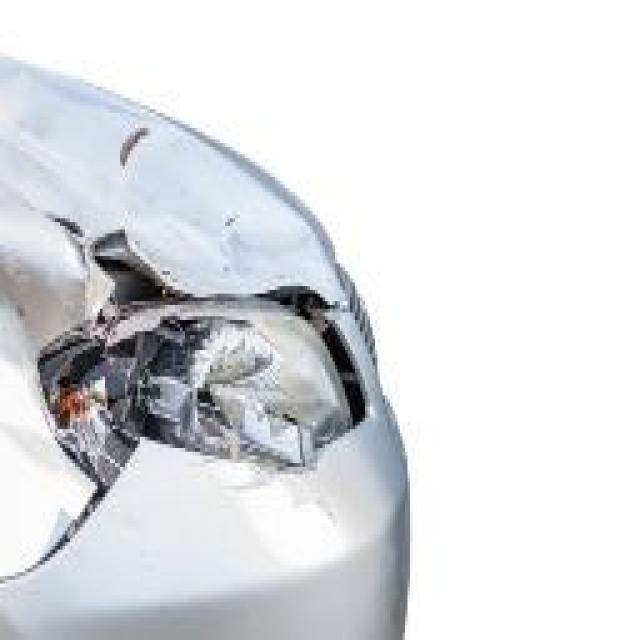Bonnet: (0, 45, 341, 296)
Bumper: (0, 428, 428, 640)
Light: (39, 303, 364, 468)
